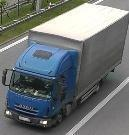truck: (1, 3, 129, 130)
